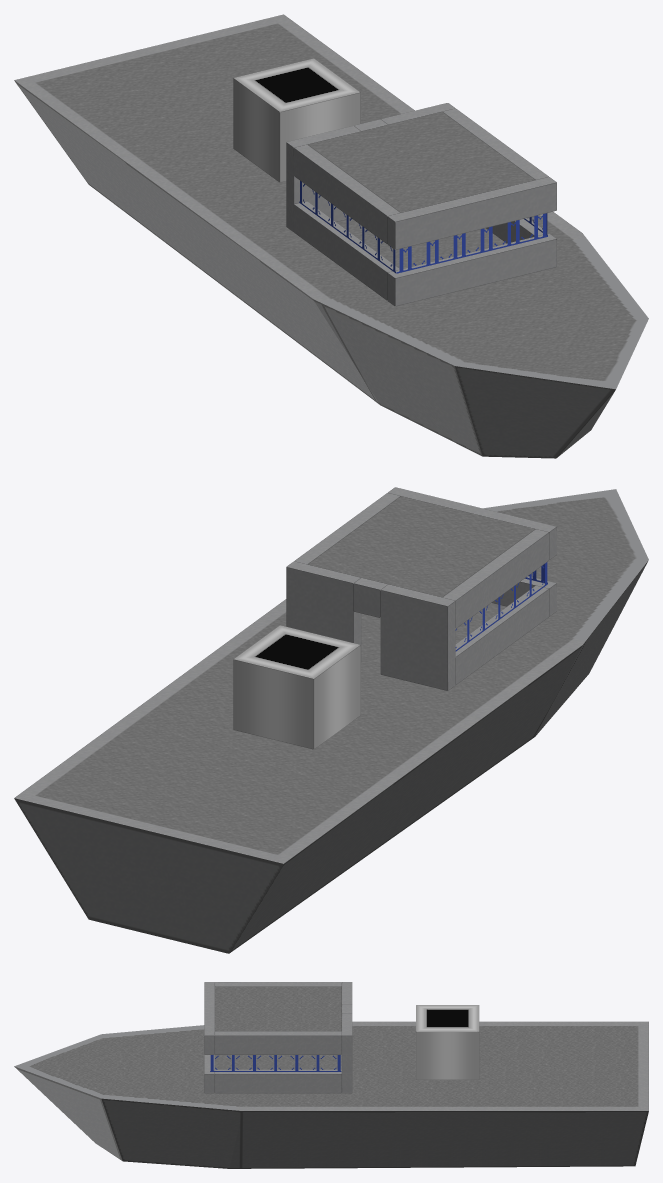
Rendered from destroyer.obj.
3 views of the same model, one above another, from view 1: azimuth 30°, elevation 25°; view 2: azimuth 150°, elevation 25°; view 3: azimuth 270°, elevation 25° (orthographic). The views are drawn at different scales.
Visible parts, largest first — view 1: cylinder, cube7, cube, cube3, cube2, cube8, cube9, cube4, cube12, cube10, cube13, cube11; view 2: cylinder, cube, cube7, cube4, cube5, cube8, cube9, cube3, cube10, cube6, cube2, cube13; view 3: cylinder, cube7, cube, cube10, cube11, cube5, cube3, cube1, cube8, cube2.
Boxes of the visible parts, box(x1,y1,x2,y2) form: cylinder: box(14, 14, 648, 458); cube7: box(308, 112, 534, 222); cube: box(233, 58, 360, 182); cube3: box(387, 177, 556, 249); cube2: box(387, 233, 556, 306); cube8: box(294, 144, 400, 244); cube9: box(294, 201, 399, 300); cube4: box(286, 126, 360, 231); cube12: box(396, 213, 547, 273); cube10: box(443, 108, 548, 179); cube13: box(299, 181, 395, 273); cube11: box(486, 218, 548, 243); cylinder: box(14, 489, 648, 953); cube: box(233, 625, 360, 749); cube7: box(308, 496, 534, 606); cube4: box(380, 584, 455, 690); cube5: box(286, 561, 361, 661); cube8: box(443, 529, 549, 628); cube9: box(455, 585, 549, 684); cube3: box(388, 487, 556, 560); cube10: box(294, 493, 400, 564); cube6: box(353, 578, 387, 617); cube2: box(492, 576, 556, 616); cube13: box(455, 562, 547, 651); cylinder: box(14, 1021, 648, 1168); cube7: box(215, 986, 341, 1035); cube: box(416, 1005, 479, 1079); cube10: box(215, 1031, 341, 1054); cube11: box(215, 1069, 341, 1093); cube5: box(342, 1013, 352, 1093); cube3: box(204, 982, 214, 1054); cube1: box(210, 1055, 341, 1071); cube8: box(215, 982, 341, 986); cube2: box(204, 1054, 214, 1093).
Bounding box in the file's own units: 10 × 7 × 30.
